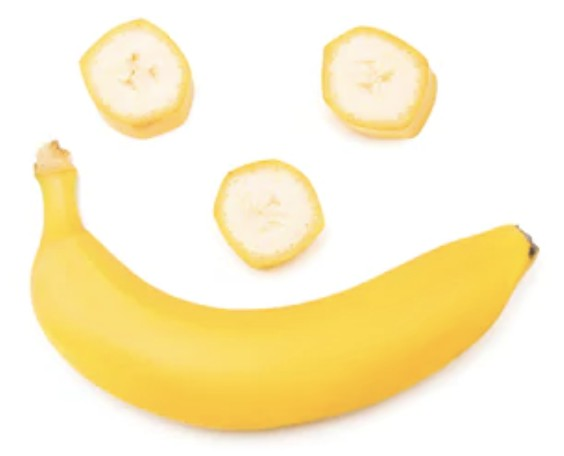fresh_banana: (31, 141, 539, 429)
